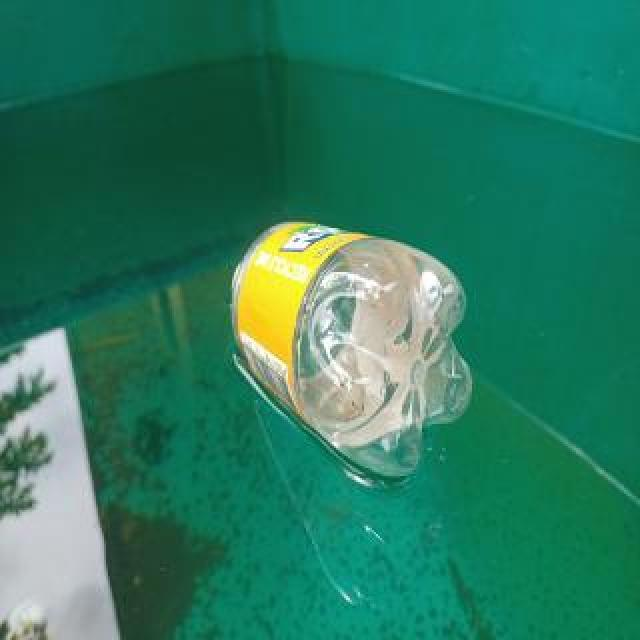bottle: (223, 208, 481, 488)
